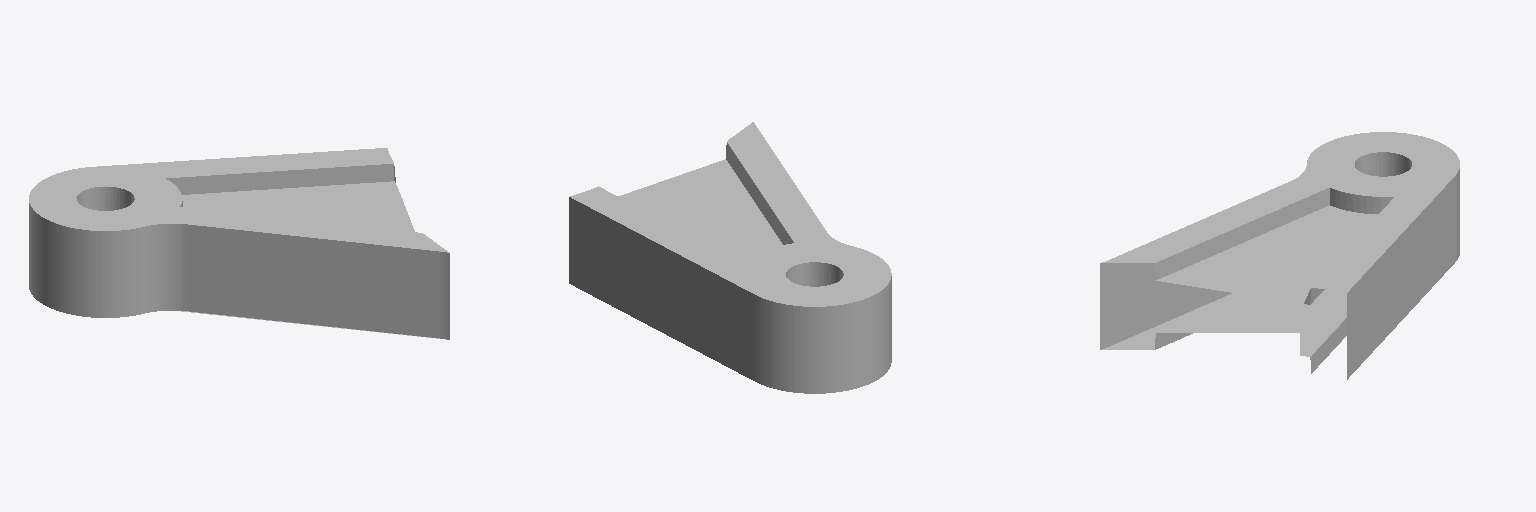
File: gripper_left_outer.obj
3 views of the same model, side by side, from view 1: azimuth 30°, elevation 25°; view 2: azimuth 150°, elevation 25°; view 3: azimuth 270°, elevation 25° (orthographic).
Visible parts, largest first — view 1: Mesh1 Gripper_left_outer1 Model; view 2: Mesh1 Gripper_left_outer1 Model; view 3: Mesh1 Gripper_left_outer1 Model.
Part boxes in pixels (x1,y1,x2,y2): Mesh1 Gripper_left_outer1 Model: (29,148,449,339); Mesh1 Gripper_left_outer1 Model: (569,122,891,393); Mesh1 Gripper_left_outer1 Model: (1100,132,1459,379).
Size of the model in its own units: 0.0202 by 0.0051 by 0.0191.